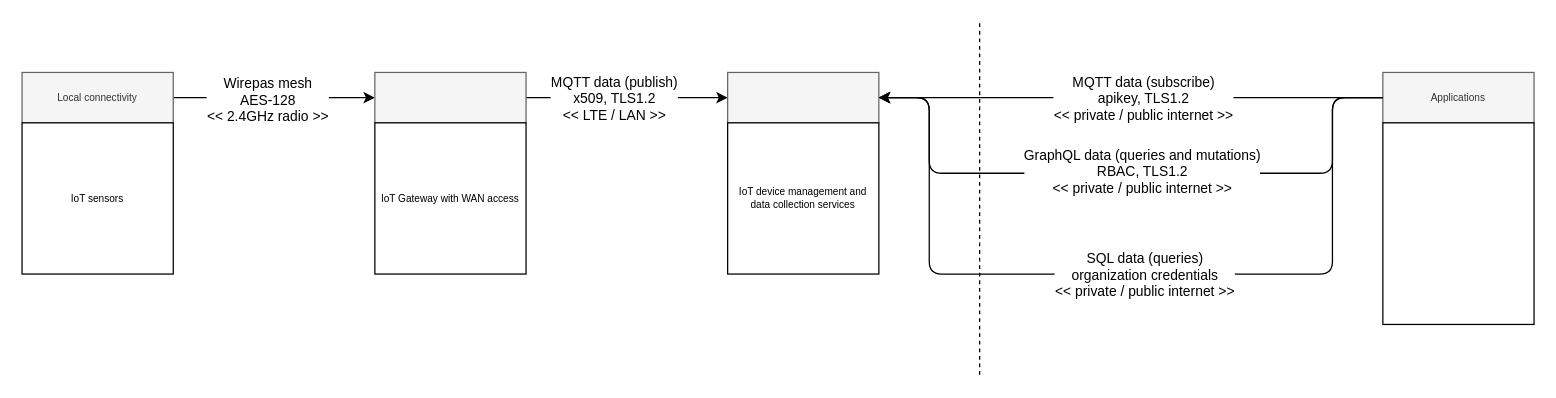
This 1556x398 diagram has some shape labels left out. Here are the shapes that lost their labels. From the top down, the box of each, then its label:
(374, 71, 526, 123): WAN connectiviity
(726, 71, 879, 123): HIoT
(1382, 122, 1534, 324): Customer services, solutions and applications
